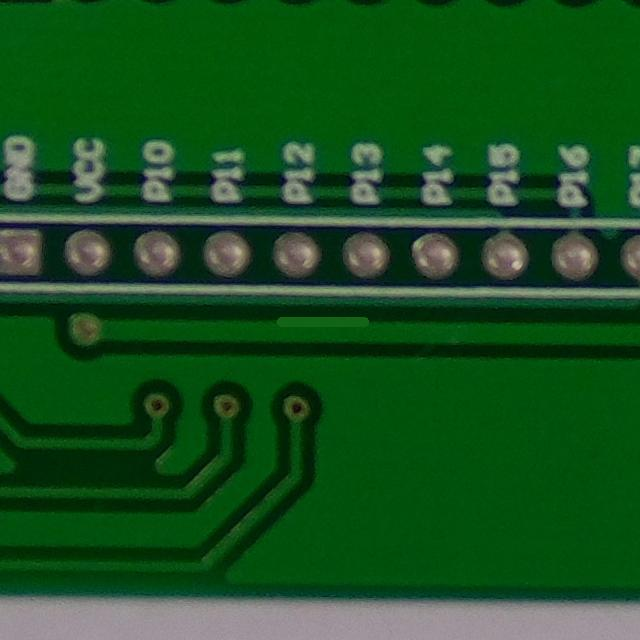spur: (264, 297, 376, 343)
